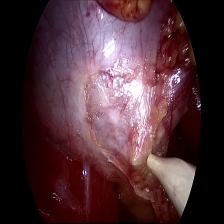Hook: (142, 142, 200, 210)
